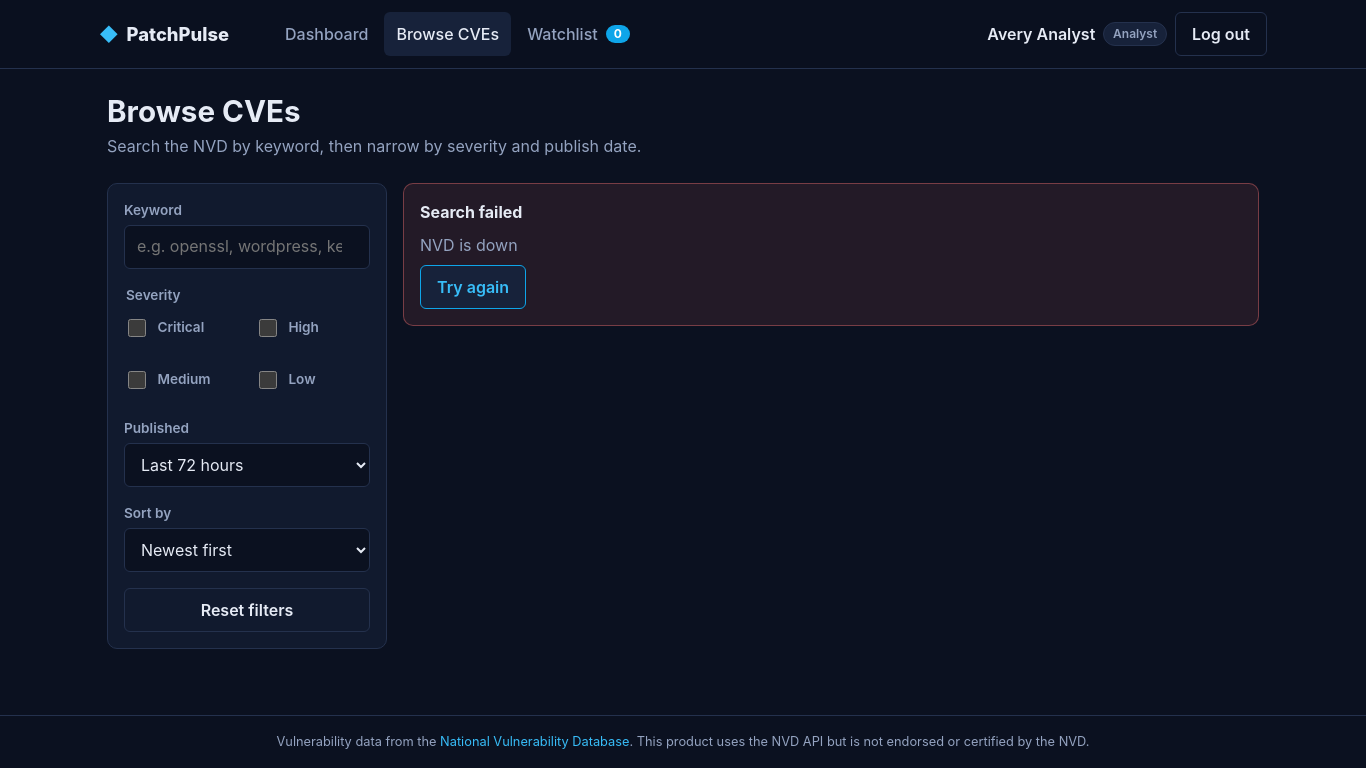
Test: BrowsePage › shows an error with a working retry button
Expected: the message shows "NVD is down", top-left (420, 235), bottom-right (518, 255)
Click the button "Try again": (473, 287) top-left (420, 265), bottom-right (526, 309)
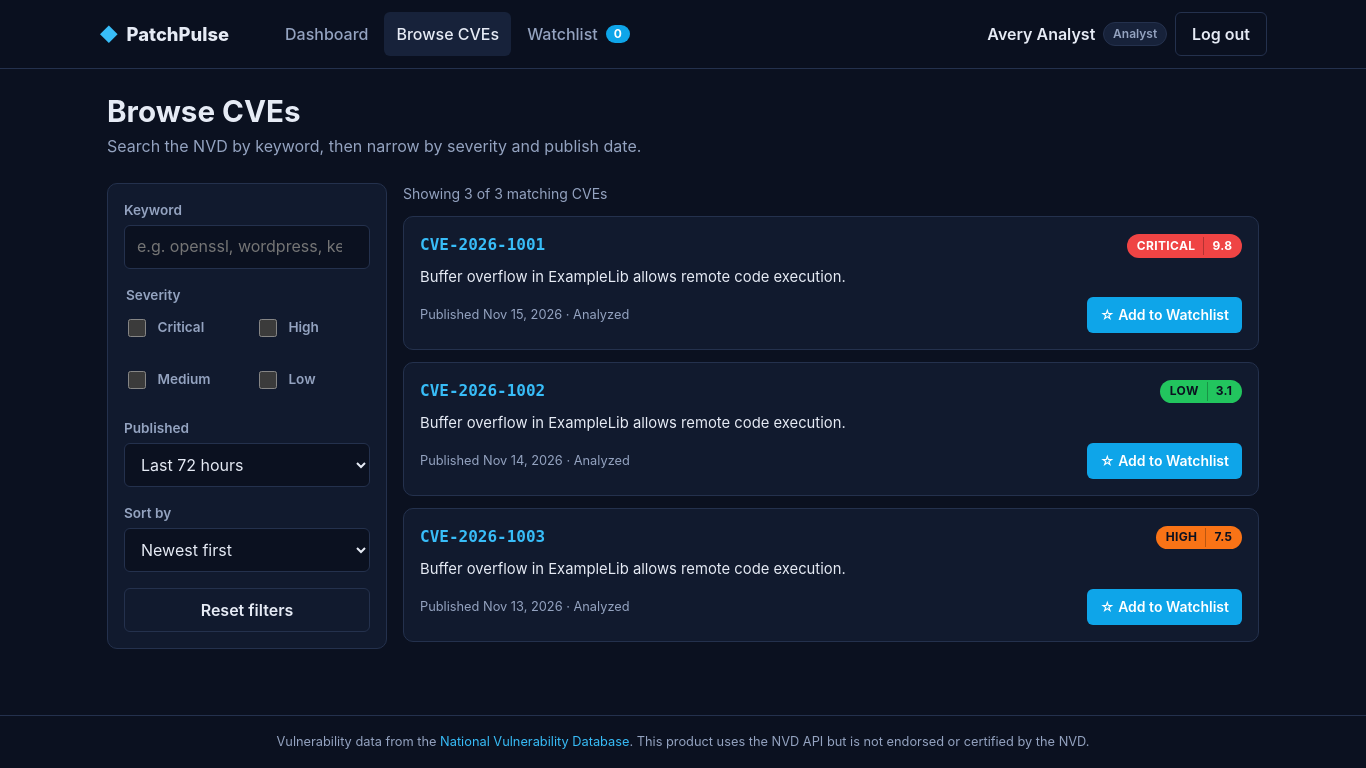
Result: the link "CVE-2026-1001" is shown at top-left (420, 234), bottom-right (545, 258)
